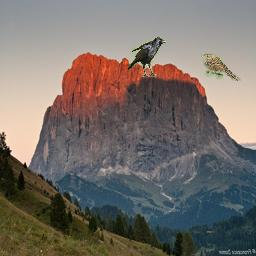Crow: (128, 37, 167, 77)
Sparrow: (201, 53, 241, 81)
